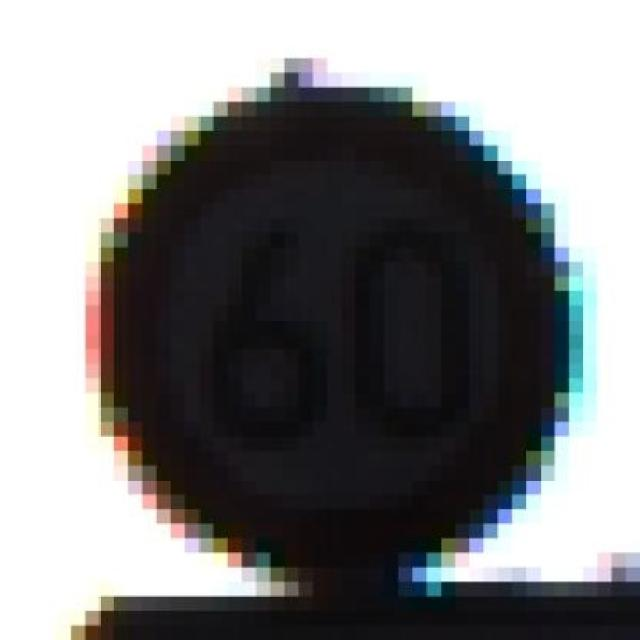forb_speed_over_60: (102, 95, 556, 562)
